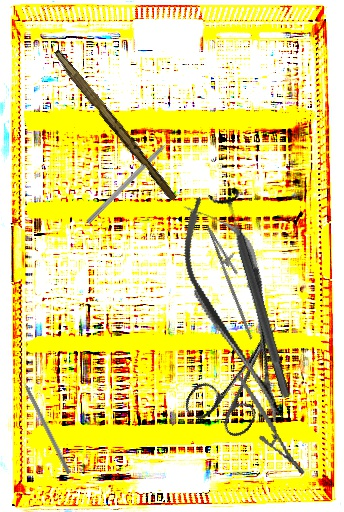Chopper: (85, 130, 185, 230)
Fixation Ring: (207, 185, 303, 403)
Iris Scissors: (181, 307, 301, 444)
Micro Scissor: (163, 186, 310, 434)
Needle Holder: (193, 220, 274, 341), (236, 364, 307, 485)
Pusher: (15, 367, 73, 475)
Scalpel Handle: (48, 48, 181, 203)
